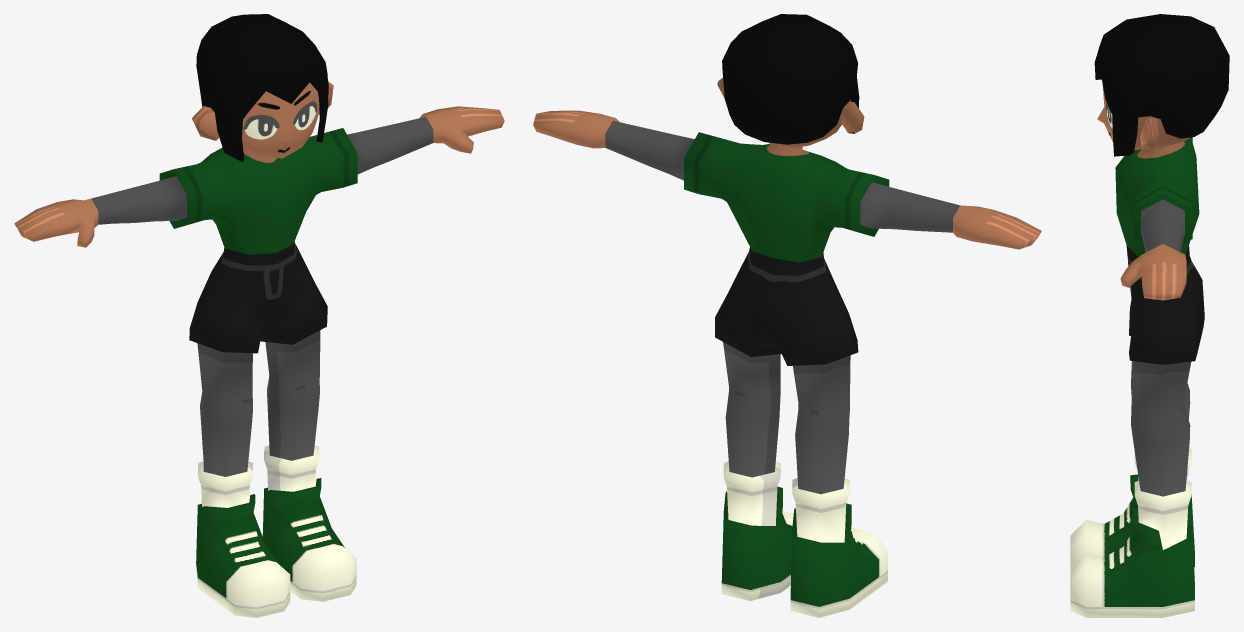
File: orionfinal.glb
3 renders of one model, left to right at view 1: azimuth 30°, elevation 25°; view 2: azimuth 150°, elevation 25°; view 3: azimuth 270°, elevation 25°, orthographic. The views are drawn at different scales.
Parts seen in each view (by area): view 1: body, hair, head, ears; view 2: body, hair; view 3: body, hair, head, ears.
Boxes of the visible parts, x1=… form: body: x1=14, y1=106, x2=504, y2=617; hair: x1=196, y1=14, x2=328, y2=161; head: x1=242, y1=82, x2=319, y2=158; ears: x1=192, y1=81, x2=333, y2=140; body: x1=533, y1=110, x2=1041, y2=617; hair: x1=722, y1=14, x2=859, y2=144; body: x1=1070, y1=137, x2=1204, y2=617; hair: x1=1094, y1=14, x2=1229, y2=156; head: x1=1097, y1=85, x2=1189, y2=149; ears: x1=1140, y1=117, x2=1158, y2=148.
Size of the model in its own units: 3.55 by 3.86 by 0.9864.
Materials: 1 (1 with a texture image).
